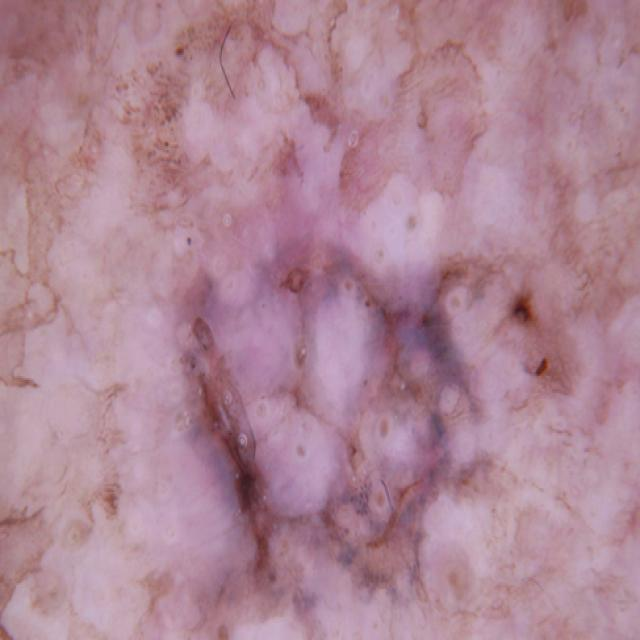Melanoma: (99, 121, 583, 640)
